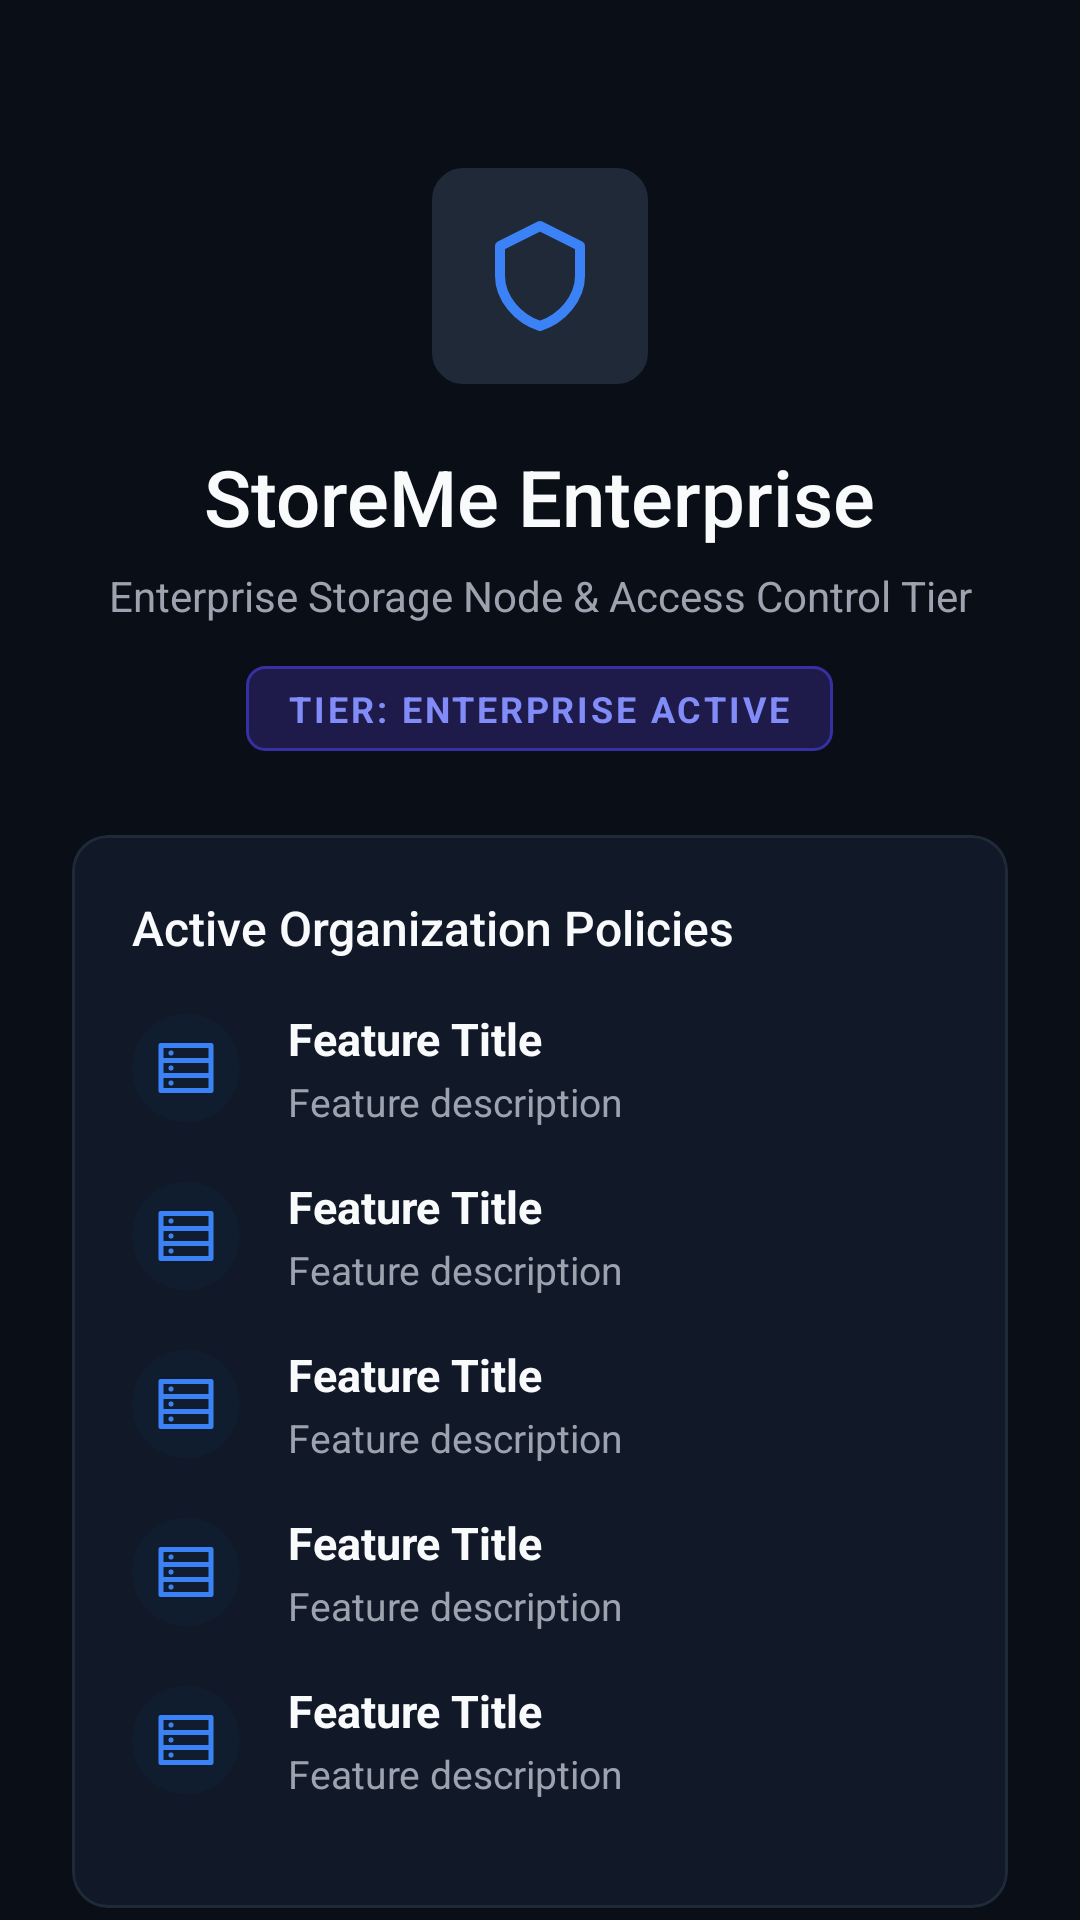

Where to tap for icons on this 1080x1920 app screen, as [x,y]:
server: [186,1068], [186,1236], [186,1404], [186,1572], [186,1740]
shield: [540,276]
